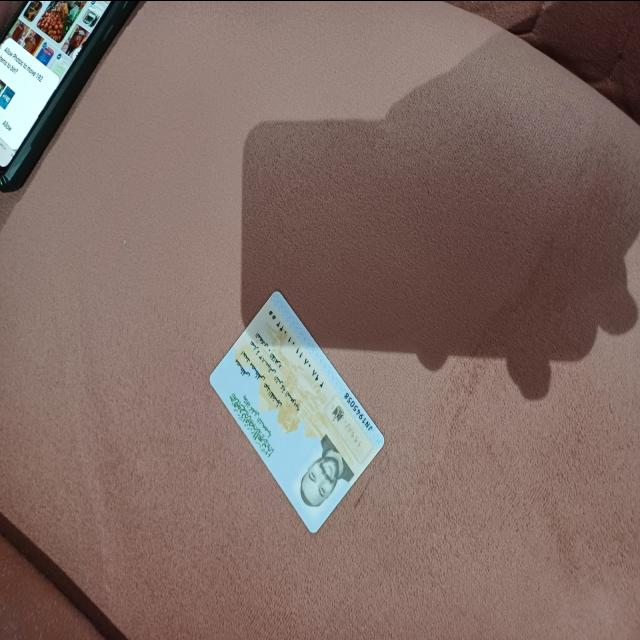ID-cards: (203, 281, 393, 539)
